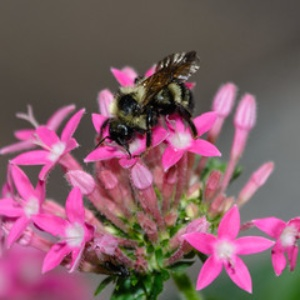bee: (104, 49, 204, 158)
